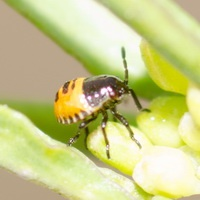insect: (54, 47, 149, 158)
